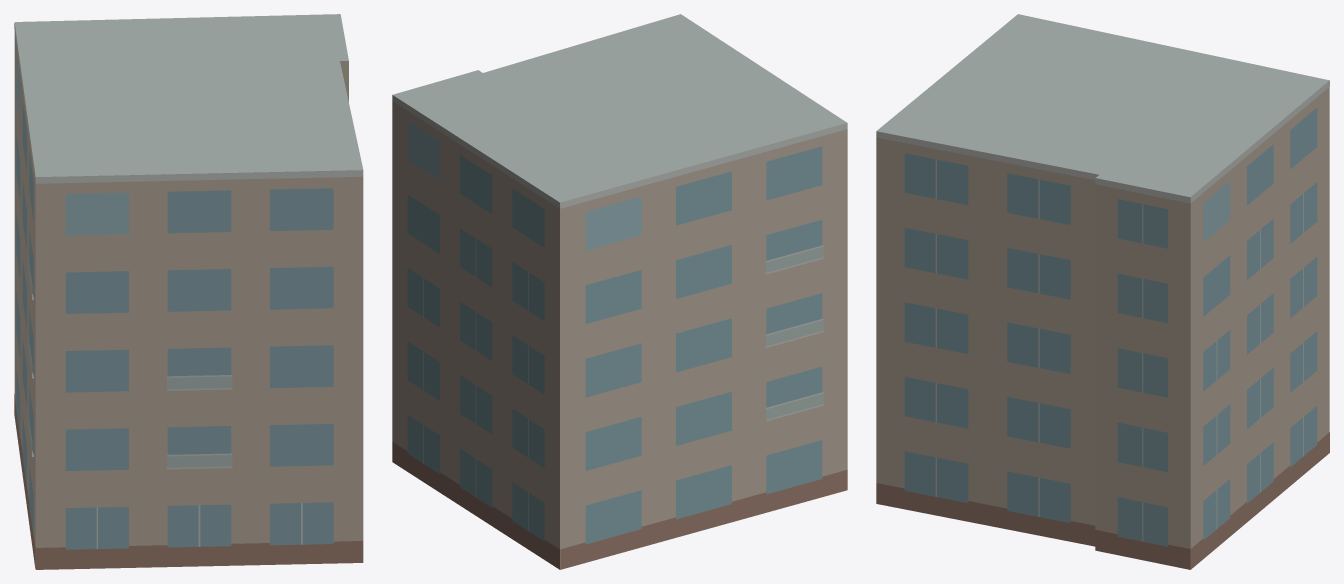
File: survey-upis-33017313.glb
The picture shows the model from 3 angles, left to right: view 1: azimuth 30°, elevation 25°; view 2: azimuth 150°, elevation 25°; view 3: azimuth 270°, elevation 25°; orthographic projection. The views are drawn at different scales.
Visible parts, largest first — view 1: survey-upis-33017313.tmp; view 2: survey-upis-33017313.tmp; view 3: survey-upis-33017313.tmp.
Boxes of the visible parts, bbox=[...] form: survey-upis-33017313.tmp: bbox=[14, 14, 363, 569]; survey-upis-33017313.tmp: bbox=[392, 14, 847, 569]; survey-upis-33017313.tmp: bbox=[876, 14, 1329, 569].
Size of the model in its own units: 15.31 by 14.5 by 16.
